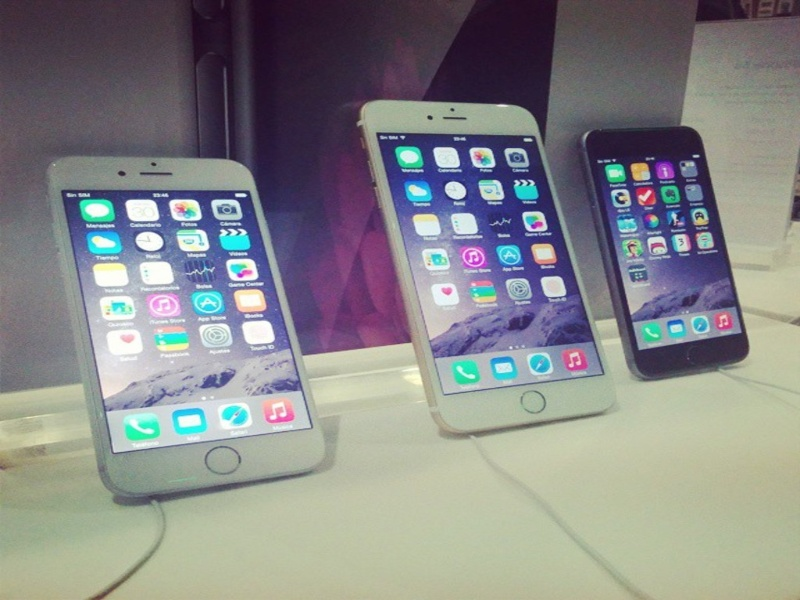cellphone: (37, 148, 334, 505), (354, 92, 628, 440), (577, 123, 756, 381)
